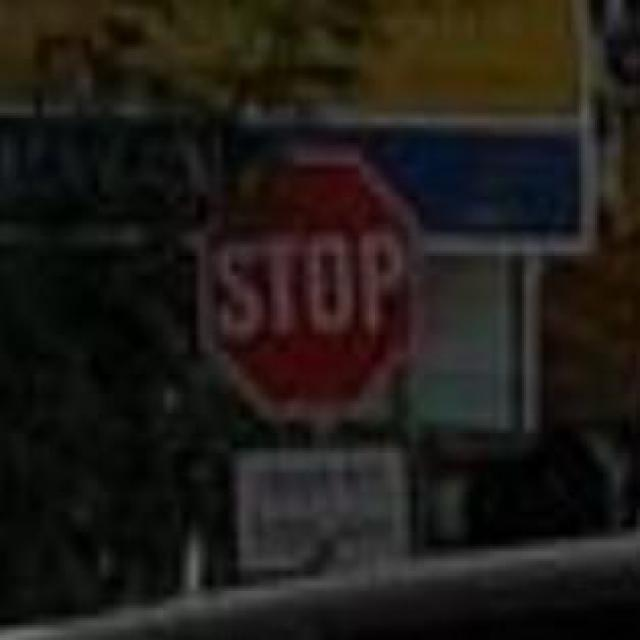traffic sign: (204, 234, 422, 421)
